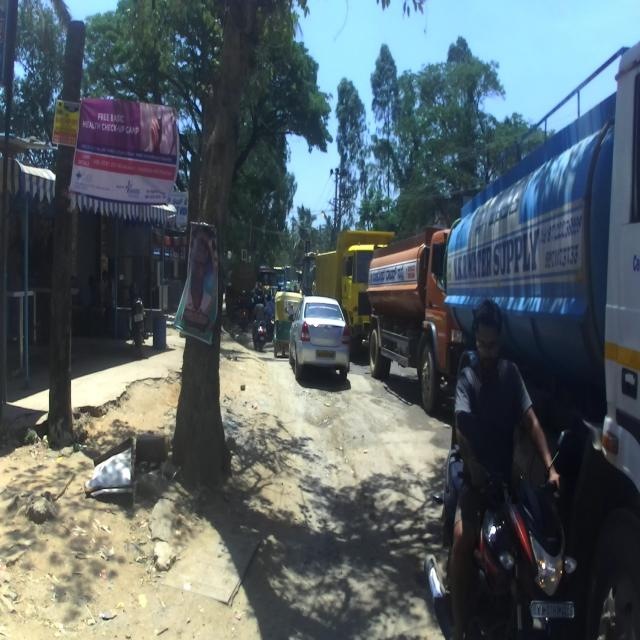Car_Toyota: (287, 294, 350, 380)
motorcycle_Honda: (417, 393, 577, 639)
truck: (440, 38, 640, 639), (361, 223, 489, 418)
